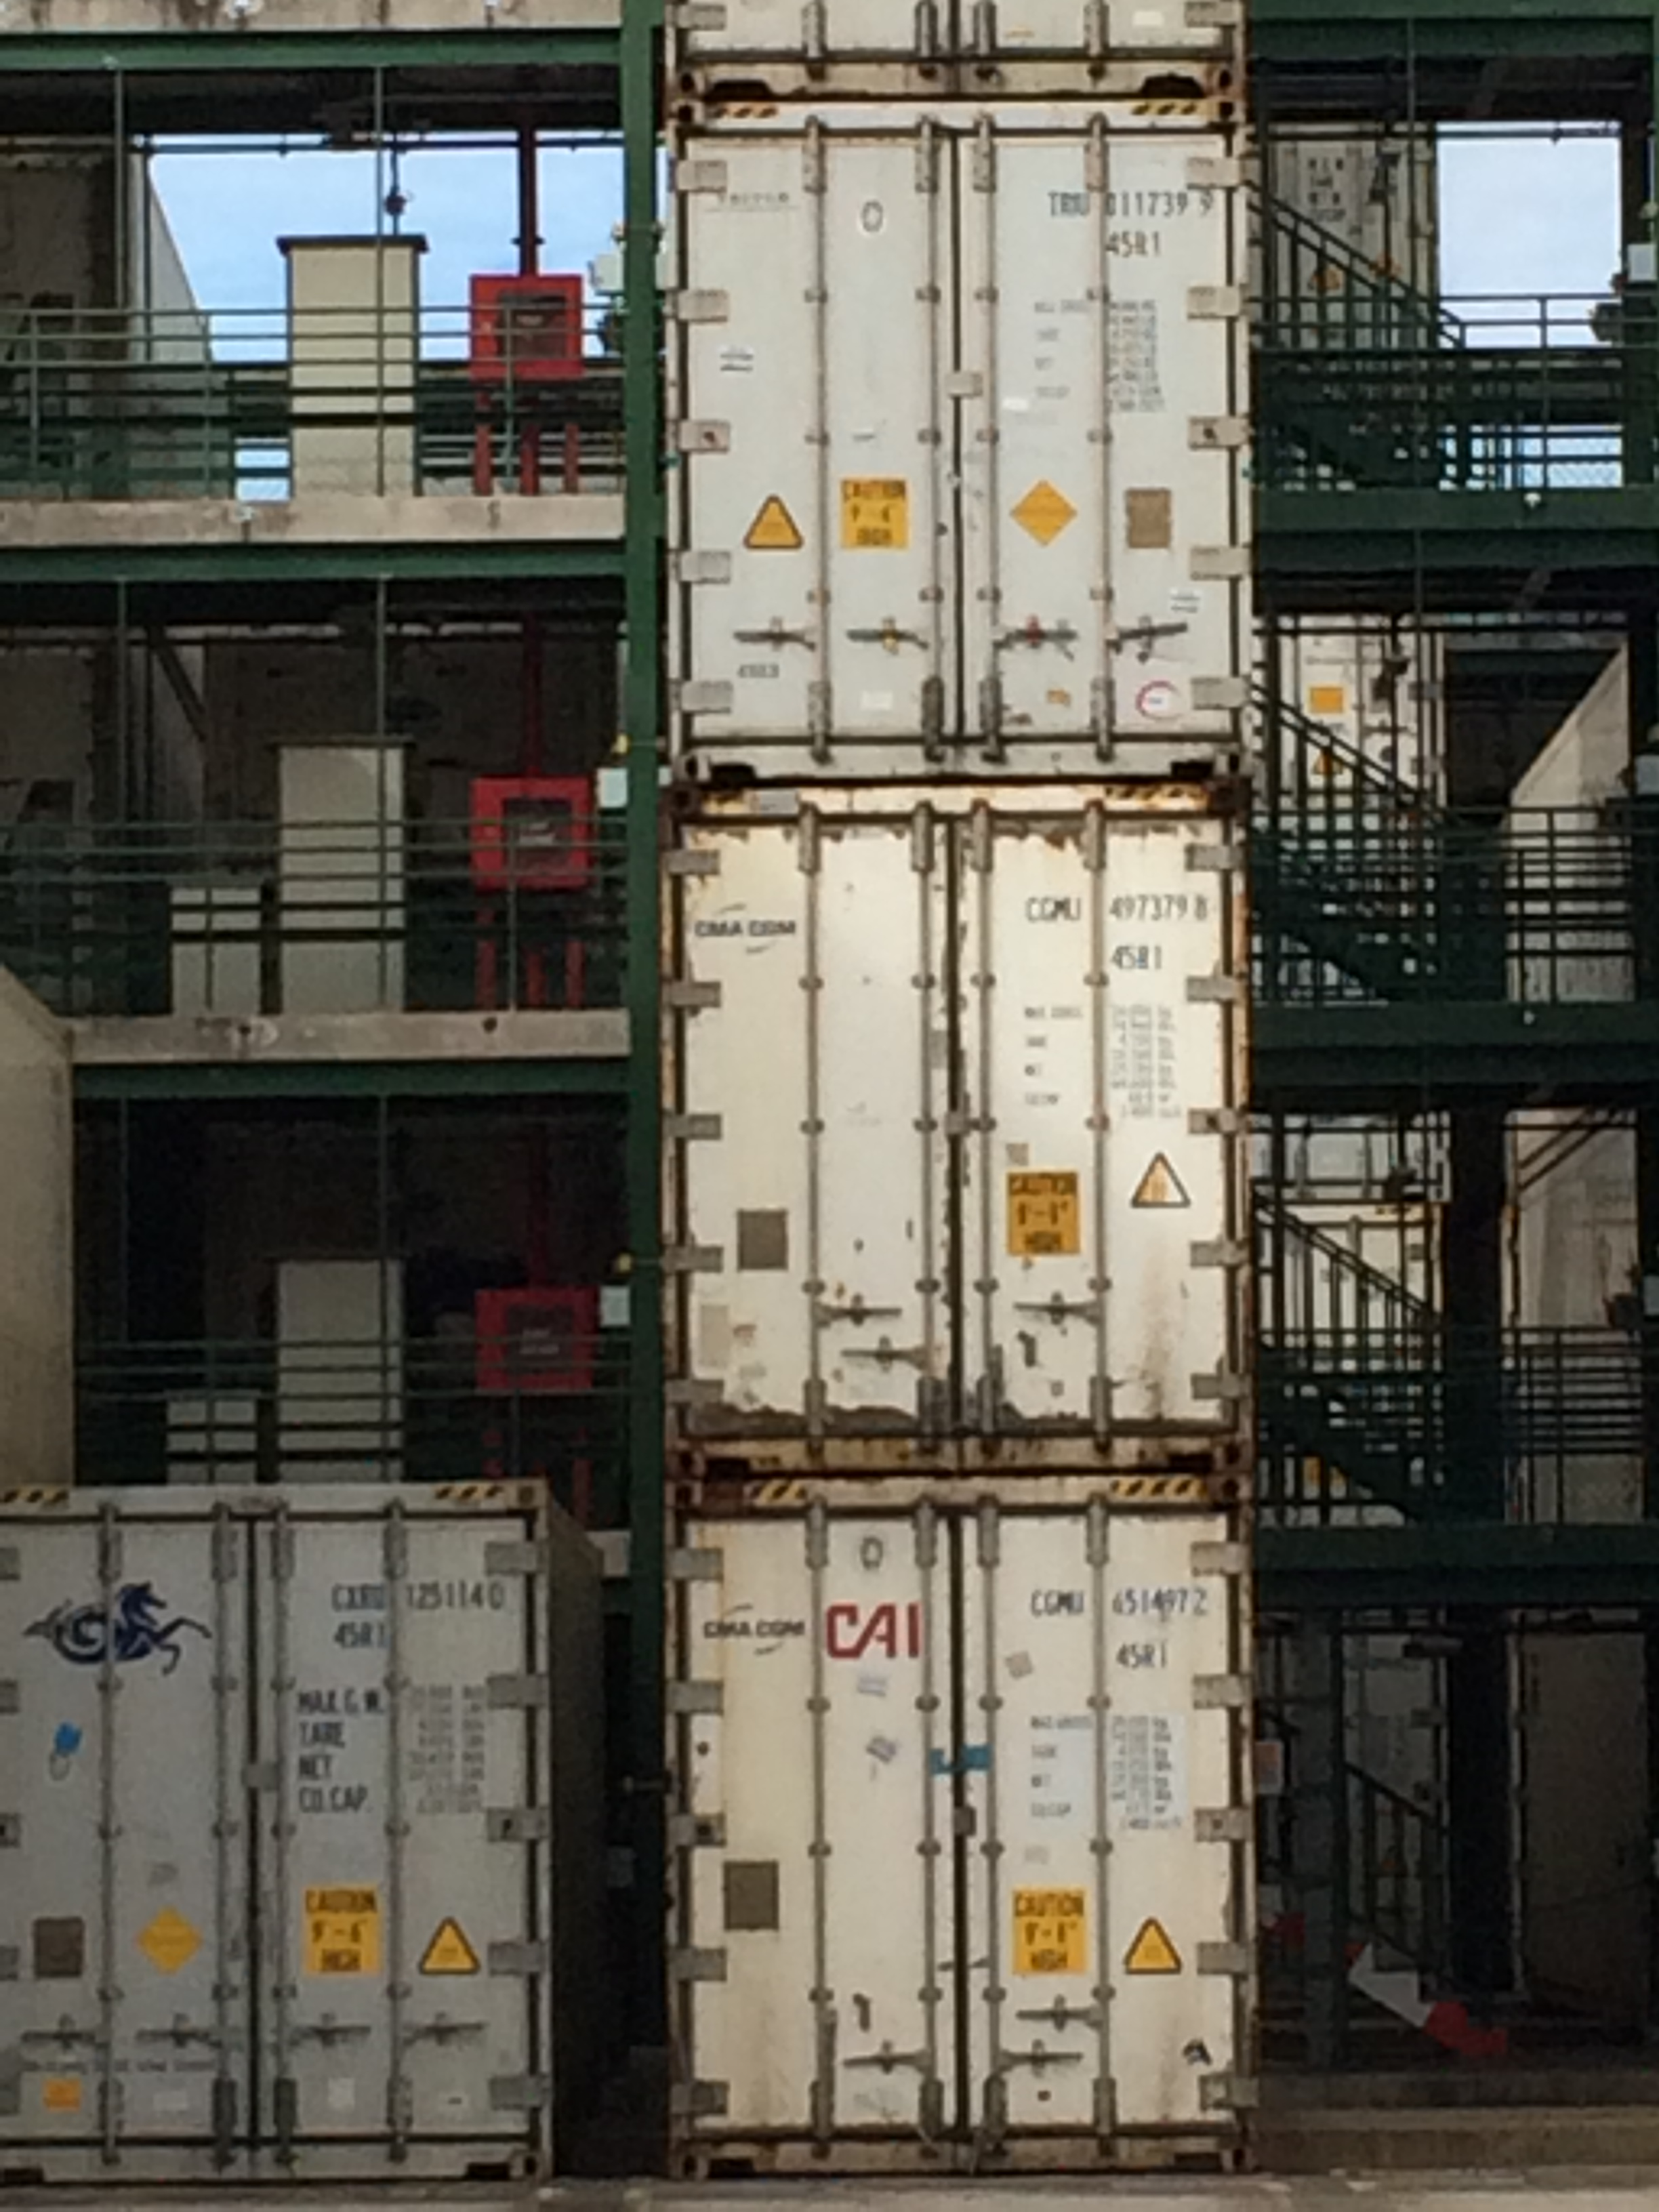container_door: (687, 94, 1269, 791), (666, 777, 1248, 1474), (667, 1463, 1249, 2160), (0, 1484, 552, 2182)
